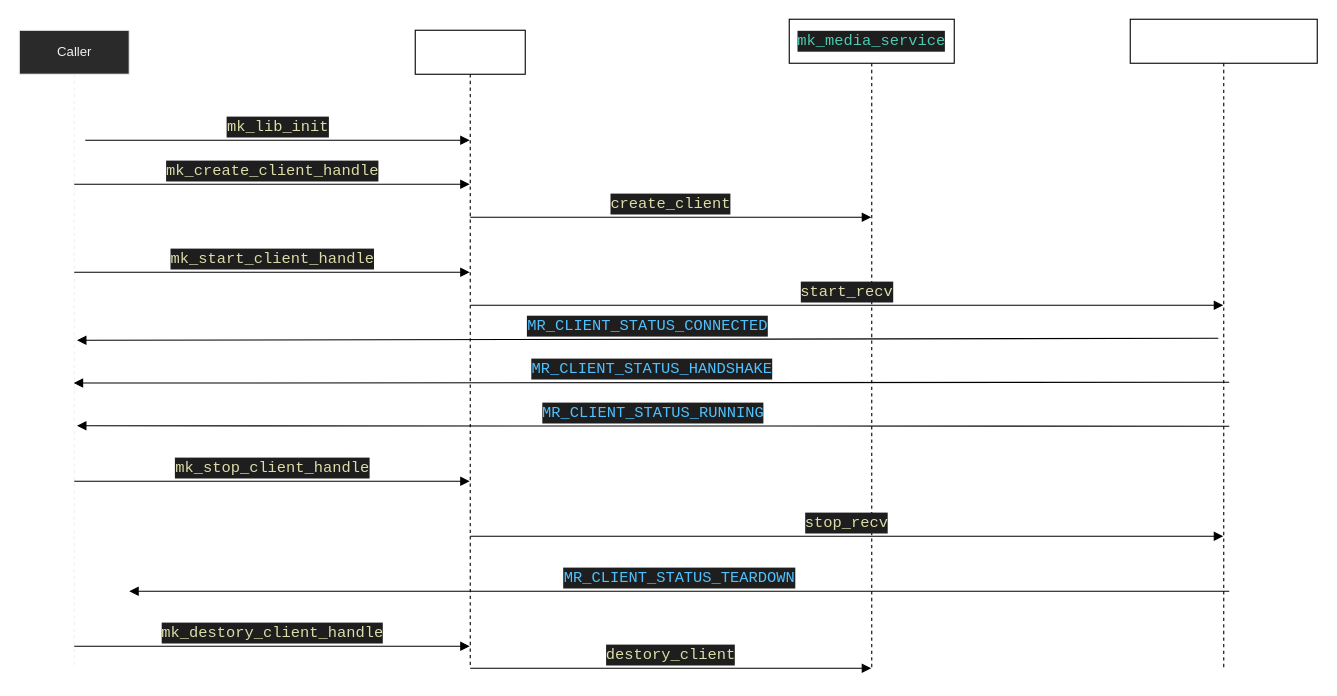
Some shapes in this 1337 by 696 pixel diagram are drawn without their labels. The shapes that lost their labels are listed below. From the top down, each one's box as (x1, y1, x2, y2) in pixels, then its label:
(414, 29, 525, 668): libMediaService
(1129, 18, 1317, 668): mk_client_connection
